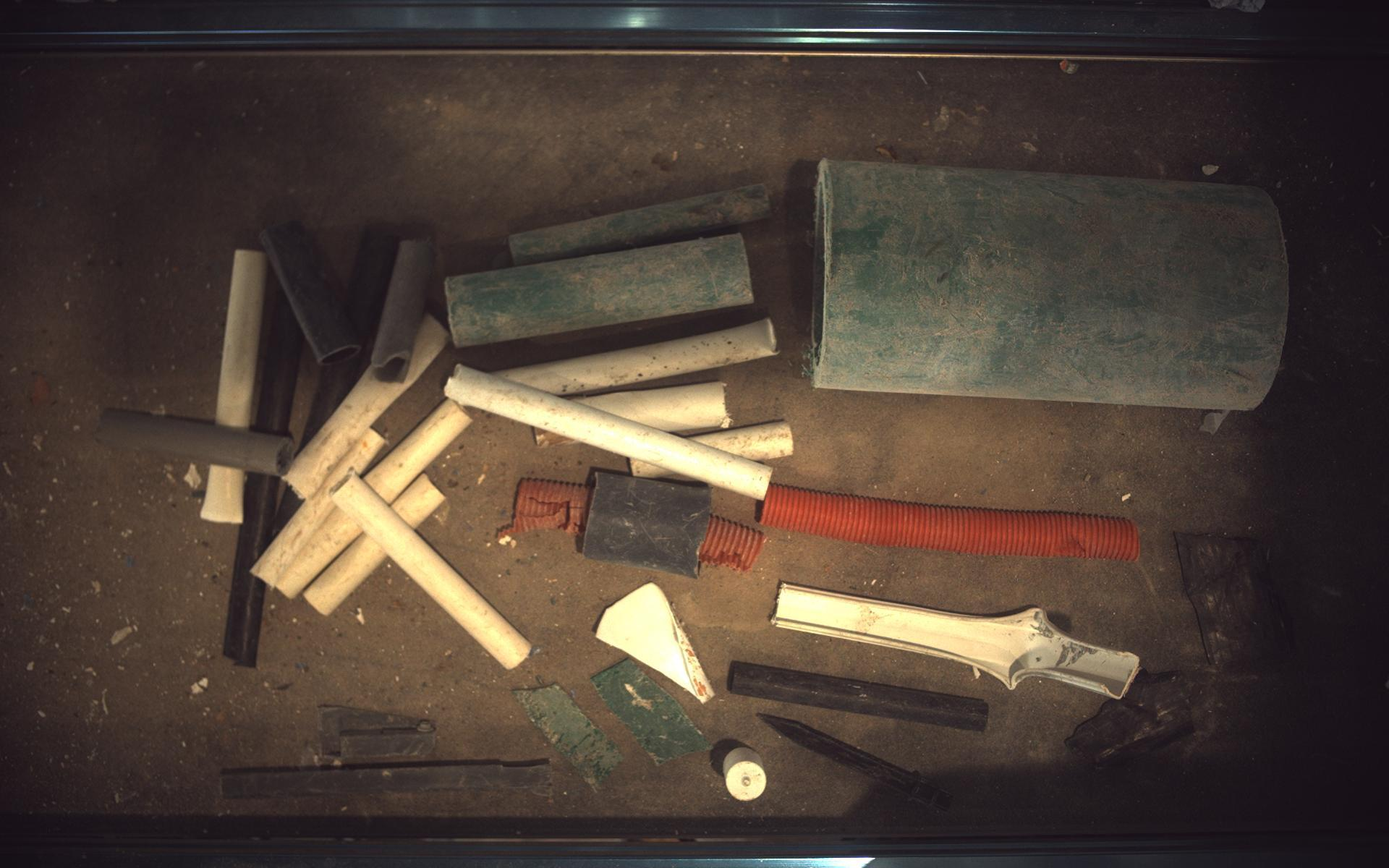pipes: (815, 158, 1291, 410), (446, 365, 773, 501), (331, 475, 532, 671), (445, 233, 755, 346), (284, 315, 449, 500), (761, 484, 1142, 562), (498, 318, 779, 395), (250, 428, 386, 587), (509, 183, 771, 265), (260, 221, 360, 365), (584, 472, 712, 579), (94, 409, 293, 477), (222, 473, 280, 669), (365, 399, 472, 503), (215, 249, 266, 428), (371, 239, 433, 382), (252, 276, 304, 435), (577, 382, 731, 433), (276, 509, 360, 599), (302, 535, 387, 616), (501, 480, 592, 538), (692, 420, 794, 461), (700, 516, 768, 572), (391, 475, 445, 529), (200, 466, 243, 524), (631, 461, 676, 478), (535, 428, 575, 447)
plastic: (773, 584, 1142, 699), (758, 715, 953, 812), (729, 662, 990, 733), (1177, 533, 1293, 669), (1068, 671, 1223, 768), (597, 584, 715, 704), (221, 760, 551, 800), (592, 659, 711, 766), (514, 685, 624, 792), (318, 707, 435, 762), (723, 748, 768, 803)
